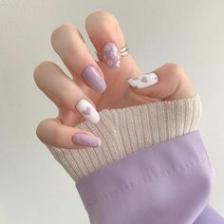purple: (77, 132, 215, 224), (83, 66, 107, 92), (103, 42, 121, 68), (72, 134, 101, 147)
